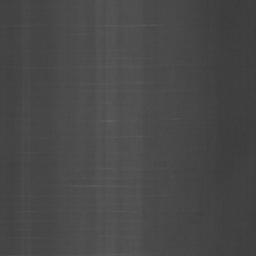Waist folding: (0, 222, 159, 256), (86, 55, 182, 90), (66, 166, 175, 189), (101, 118, 149, 139), (102, 23, 158, 29), (90, 209, 136, 214), (0, 23, 31, 28), (166, 88, 190, 93)
